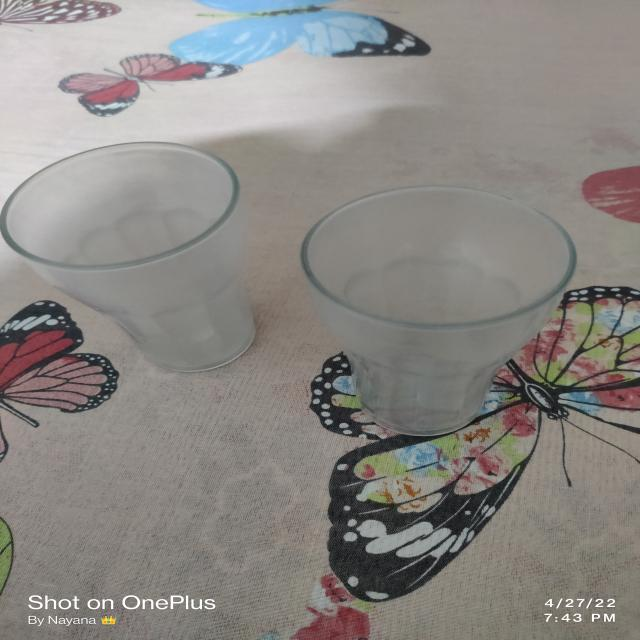Glass: (296, 181, 583, 440), (0, 139, 262, 376)
